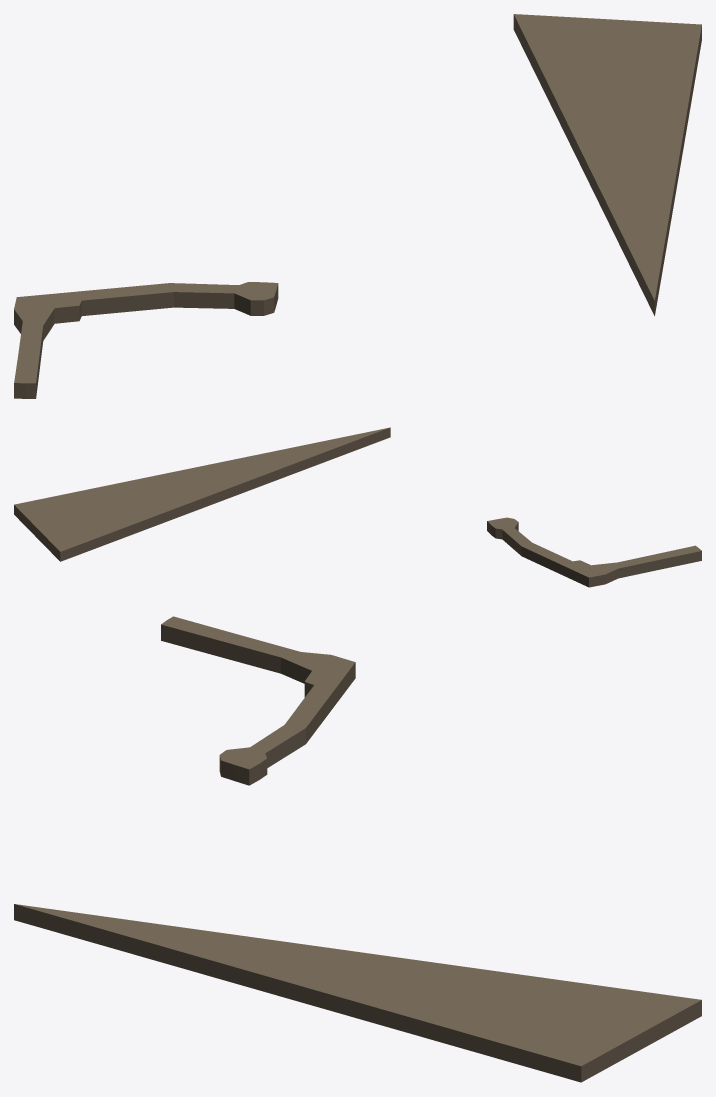
File: tile_4_0.glb
The picture shows the model from 3 angles, top to bottom: view 1: azimuth 30°, elevation 25°; view 2: azimuth 150°, elevation 25°; view 3: azimuth 270°, elevation 25°; orthographic projection. The views are drawn at different scales.
Parts seen in each view (by area): view 1: grn_4_0; view 2: grn_4_0; view 3: grn_4_0.
Part boxes in pixels (left/top/right/bottom): grn_4_0: left=14, top=14, right=701, bottom=398; grn_4_0: left=14, top=427, right=701, bottom=587; grn_4_0: left=14, top=616, right=701, bottom=1082.
Size of the model in its own units: 154 by 2.6 by 99.7.
